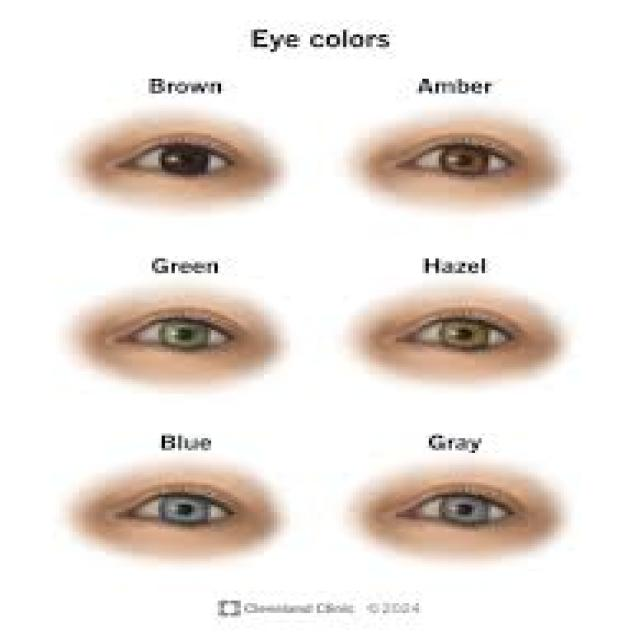Eyes-iris: (436, 486, 497, 532), (160, 137, 219, 182), (158, 313, 216, 357), (436, 315, 493, 352), (436, 145, 496, 180), (154, 492, 210, 528)
